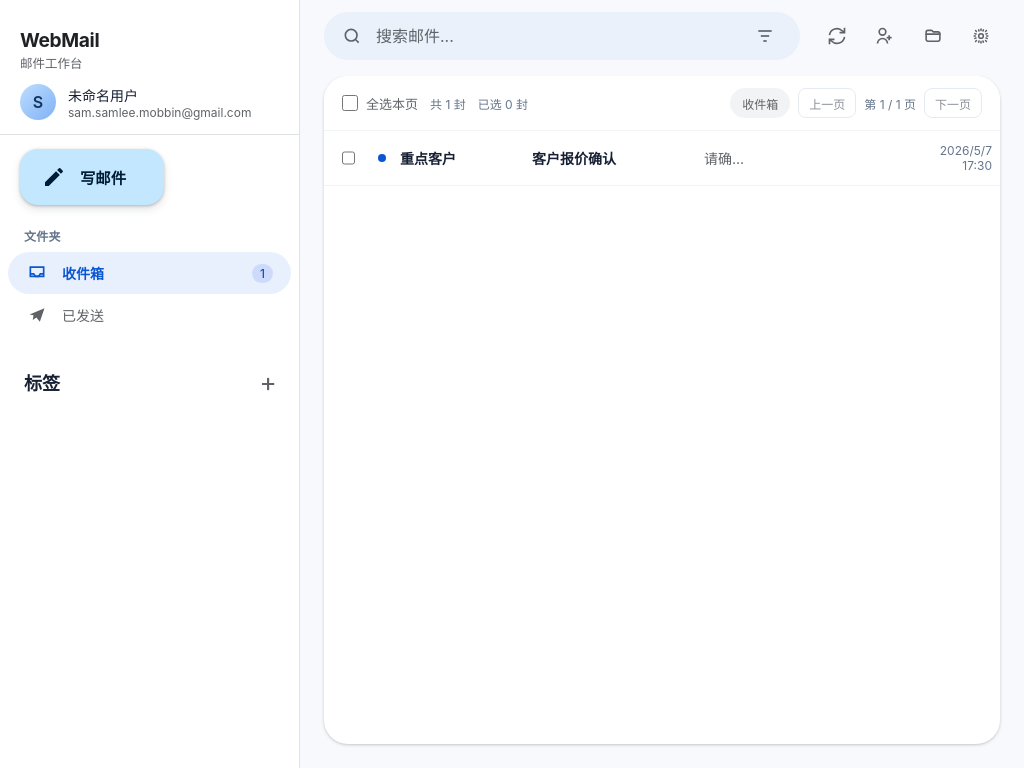
Test: App 邮件工作台 › 搜索筛选区域默认折叠并可展开收起
The width and height of the screenshot is (1024, 768).
Expected: the text "客户报价确认" is shown, [532,150,616,167]
Expected: the field labelled "发件人" is not shown
Click the button named "展开筛选" at (765, 36), box [746,17,784,55]
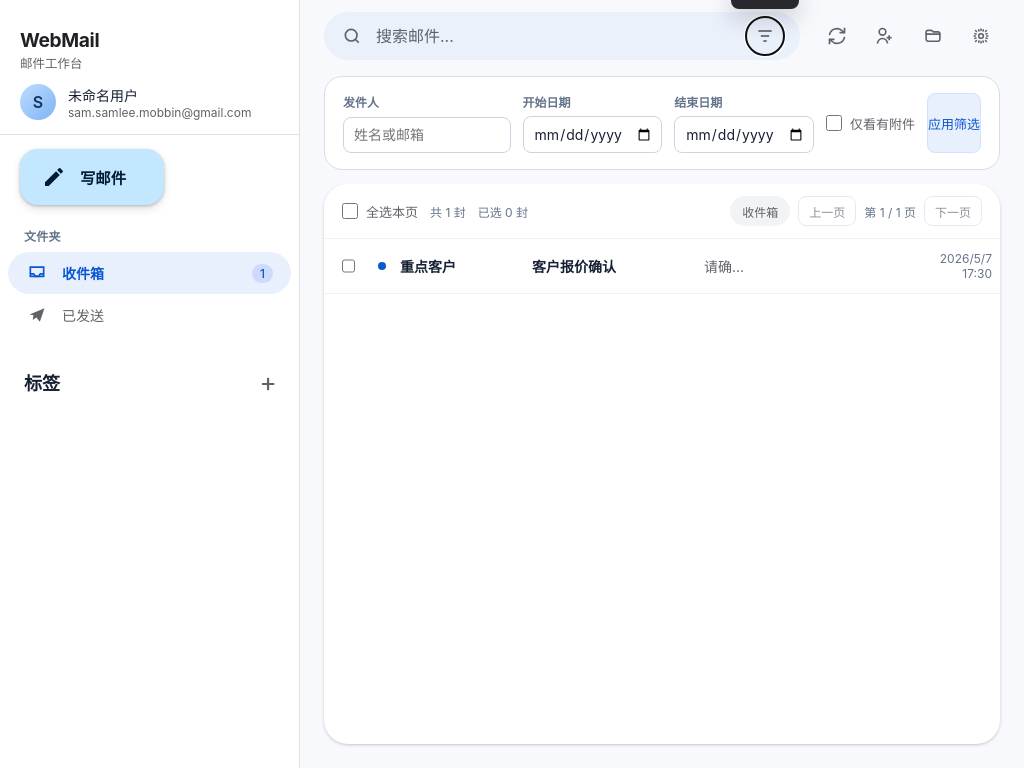
Result: the field labelled "发件人" is shown at [343,116,511,153]
Result: the button named "收起筛选" is shown
Click the button named "收起筛选" at (765, 36), box [746,17,784,55]
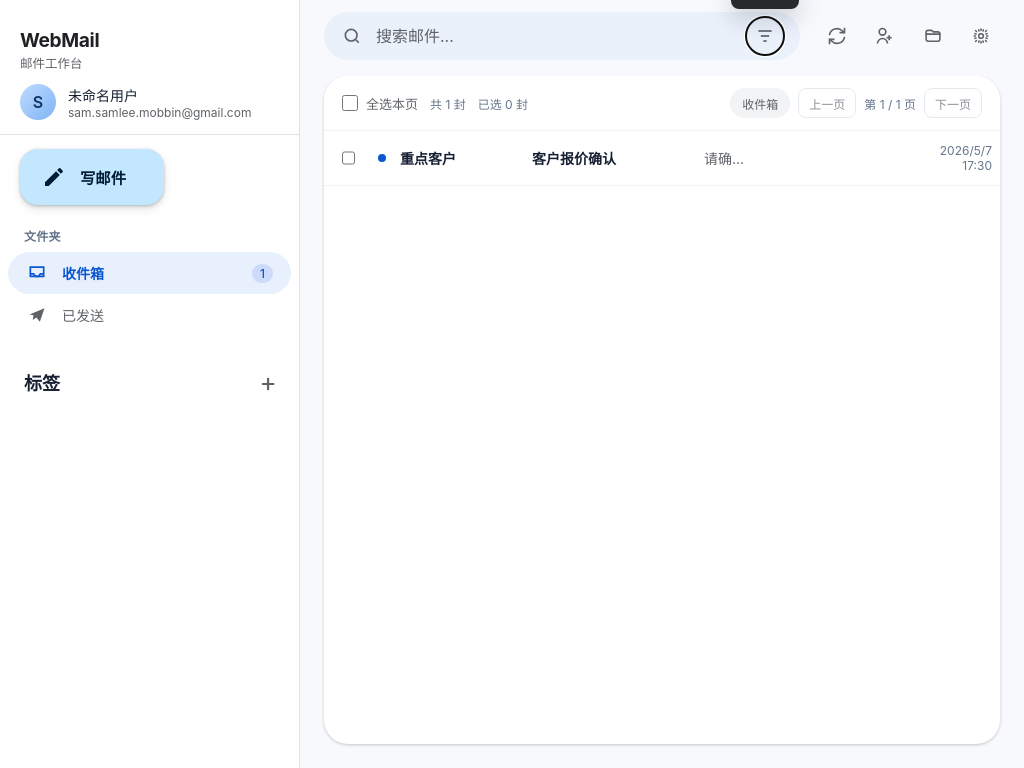
Result: the text labelled "发件人" is gone
